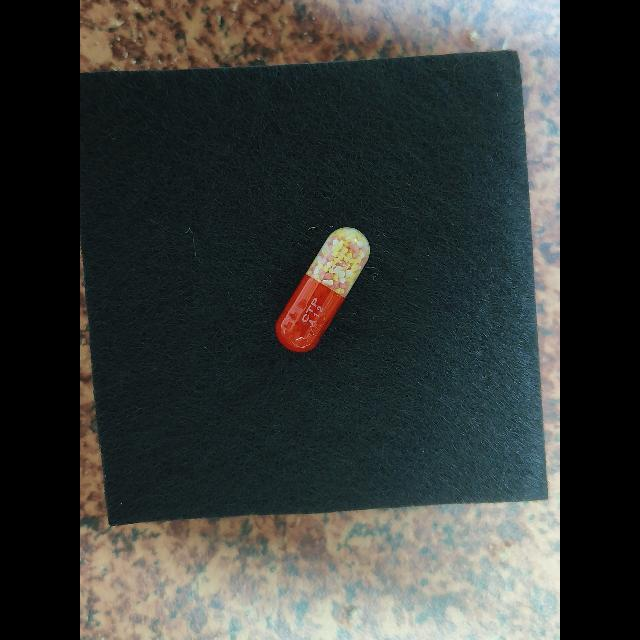Intact Capsule: (275, 227, 370, 352)
